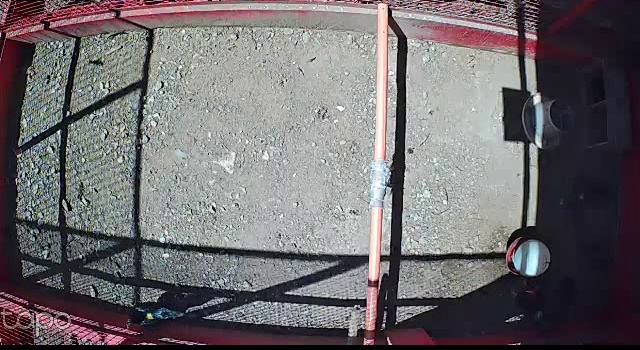Drinker: (507, 234, 550, 276)
Feeder: (523, 90, 580, 153)
